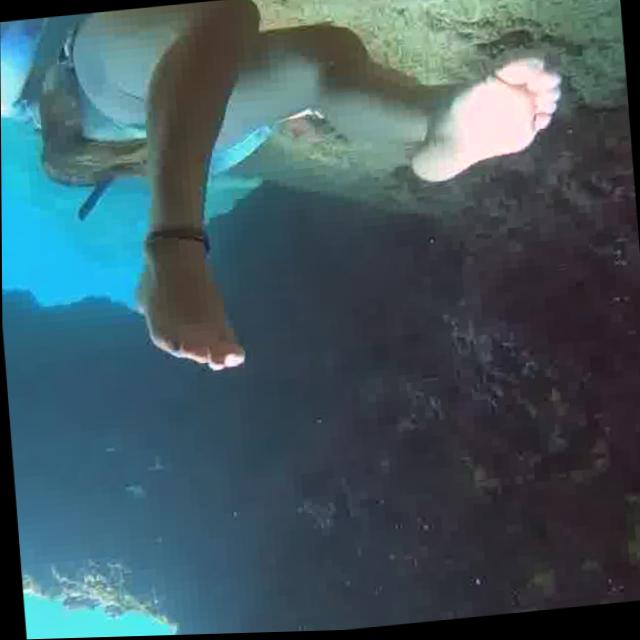human: (0, 0, 585, 400)
